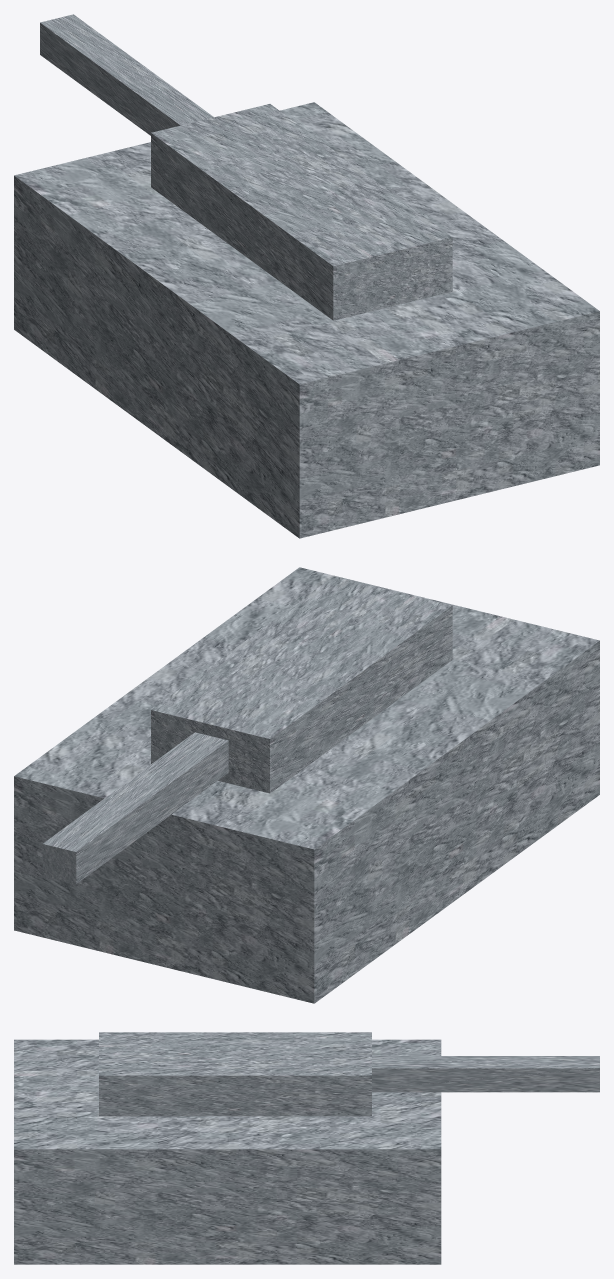
File: Tank.dae
3 renders of one model, top to bottom at view 1: azimuth 30°, elevation 25°; view 2: azimuth 150°, elevation 25°; view 3: azimuth 270°, elevation 25°, orthographic. The views are drawn at different scales.
Visible parts, largest first — view 1: Body, Turret, Barrel; view 2: Body, Turret, Barrel; view 3: Body, Turret, Barrel.
Boxes of the visible parts, x1,y1,x2,y2 form: Body: (14,102,599,538); Turret: (151,104,452,320); Barrel: (40,14,213,135); Body: (14,567,599,1003); Turret: (151,576,452,793); Barrel: (42,732,228,884); Body: (14,1039,441,1264); Turret: (99,1032,371,1116); Barrel: (372,1056,599,1092).
Size of the model in its own units: 1.05 by 0.6998 by 2.38.
1 material, 1 textured.
